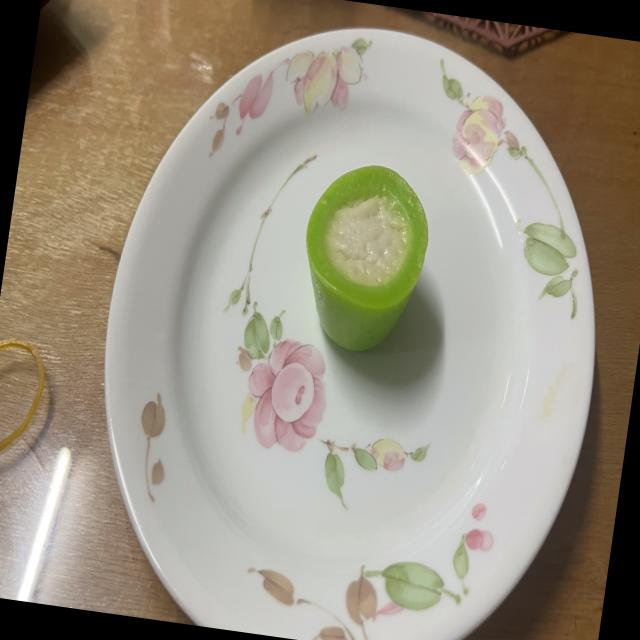nona-manis: (306, 166, 428, 351)
